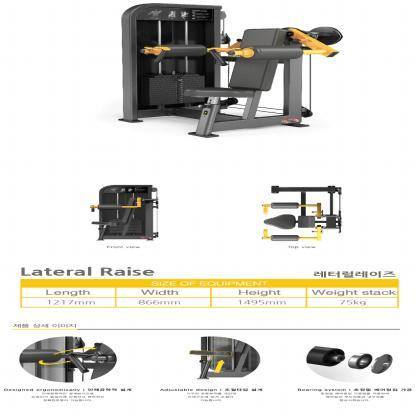lateral raises machine: (120, 4, 344, 138), (87, 183, 164, 242)
